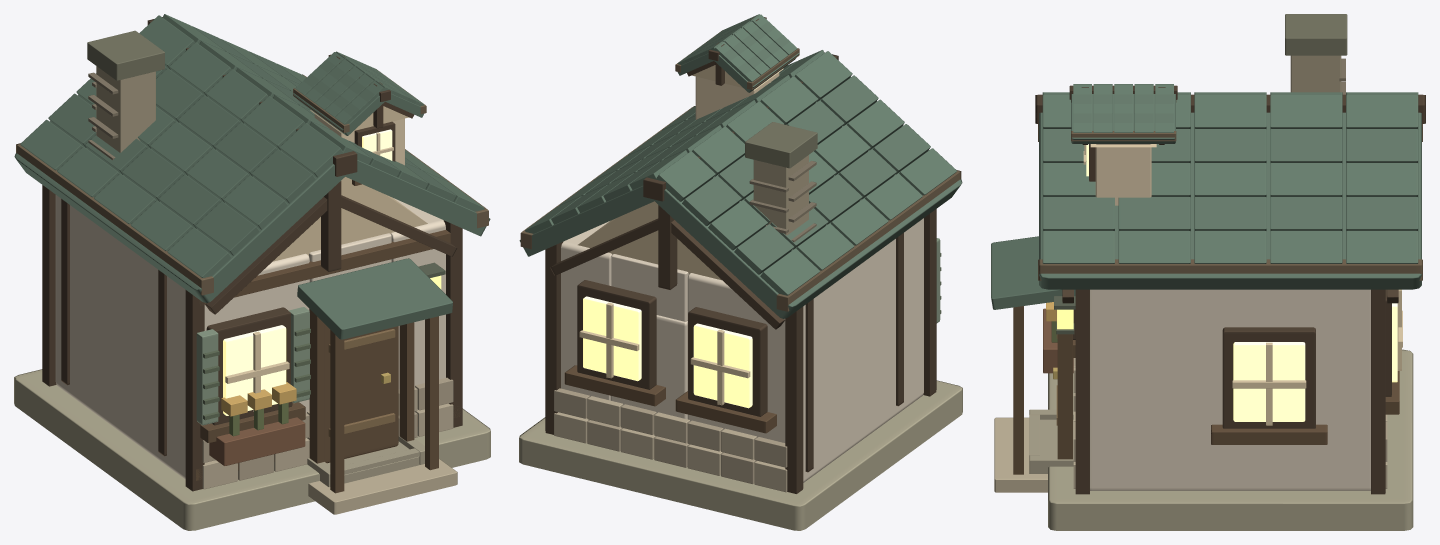
File: house-1.glb
The picture shows the model from 3 angles, left to right: view 1: azimuth 30°, elevation 25°; view 2: azimuth 150°, elevation 25°; view 3: azimuth 270°, elevation 25°; orthographic projection. The views are drawn at different scales.
Visible parts, largest first — view 1: house-1-0, door-hinge; view 2: house-1-0; view 3: house-1-0.
Part boxes in pixels (bbox=[...]): house-1-0: bbox=[14, 14, 490, 530]; door-hinge: bbox=[324, 324, 398, 463]; house-1-0: bbox=[519, 14, 962, 530]; house-1-0: bbox=[991, 14, 1425, 530].
Bounding box in the file's own units: 1.88 × 2.26 × 2.24.
